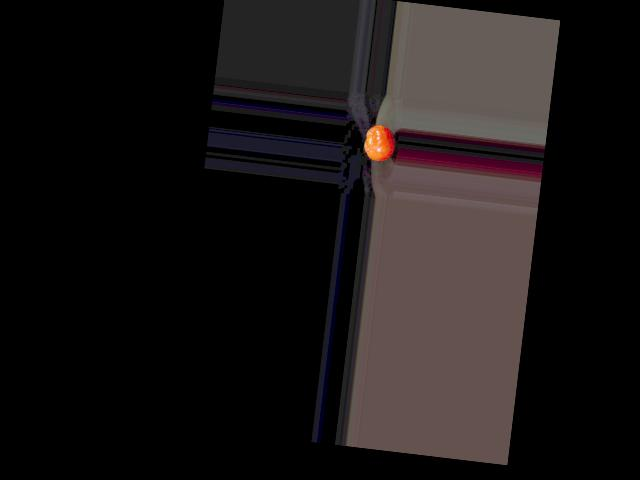tomato: (362, 124, 396, 163)
